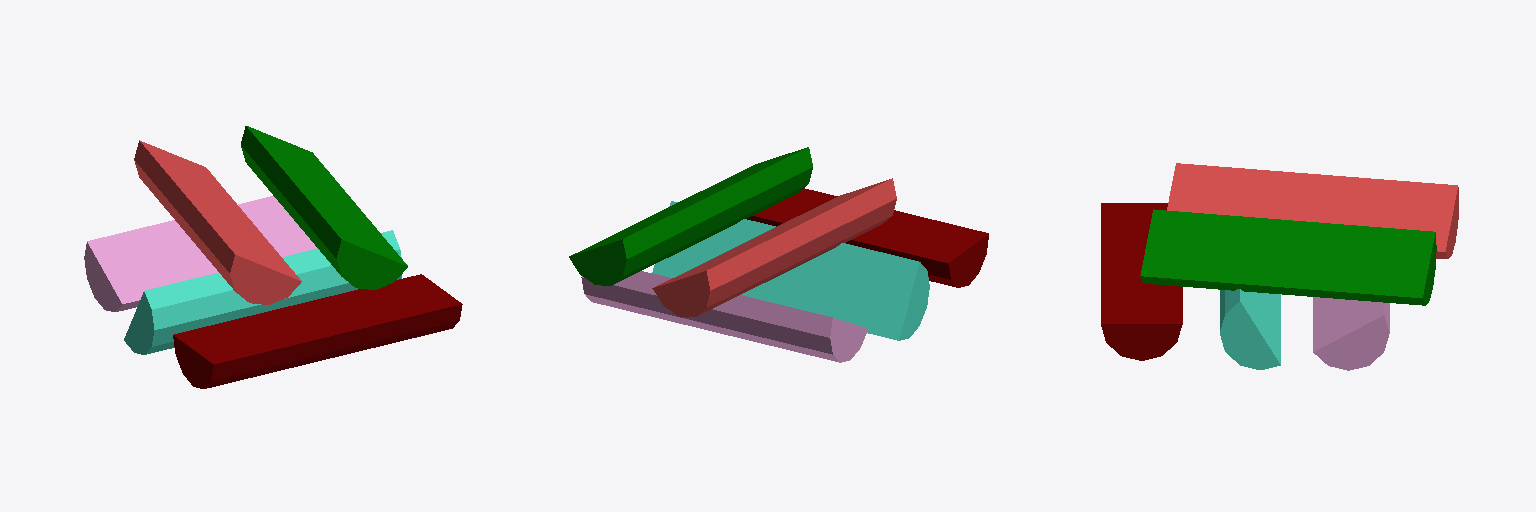
3 views of the same model, side by side, from view 1: azimuth 30°, elevation 25°; view 2: azimuth 150°, elevation 25°; view 3: azimuth 270°, elevation 25° (orthographic).
Parts seen in each view (by area): view 1: Gruppe_161_004, Gruppe_161_003, Gruppe_161_002, Gruppe_161_001, Gruppe_161_005; view 2: Gruppe_161_005, Gruppe_161_003, Gruppe_161_002, Gruppe_161_001, Gruppe_161_004; view 3: Gruppe_161_002, Gruppe_161_003, Gruppe_161_004, Gruppe_161_001, Gruppe_161_005.
Boxes of the visible parts, <box> form: Gruppe_161_004: <box>173,274,462,388</box>; Gruppe_161_003: <box>134,140,301,304</box>; Gruppe_161_002: <box>241,126,407,289</box>; Gruppe_161_001: <box>84,196,316,311</box>; Gruppe_161_005: <box>124,230,401,354</box>; Gruppe_161_005: <box>652,201,929,340</box>; Gruppe_161_003: <box>652,178,896,316</box>; Gruppe_161_002: <box>569,147,812,285</box>; Gruppe_161_001: <box>581,271,867,362</box>; Gruppe_161_004: <box>747,188,988,287</box>; Gruppe_161_002: <box>1140,209,1436,305</box>; Gruppe_161_003: <box>1167,163,1458,258</box>; Gruppe_161_004: <box>1101,203,1182,360</box>; Gruppe_161_001: <box>1313,297,1389,370</box>; Gruppe_161_005: <box>1220,289,1280,369</box>.
Bounding box in the file's own units: 445 × 185 × 525.